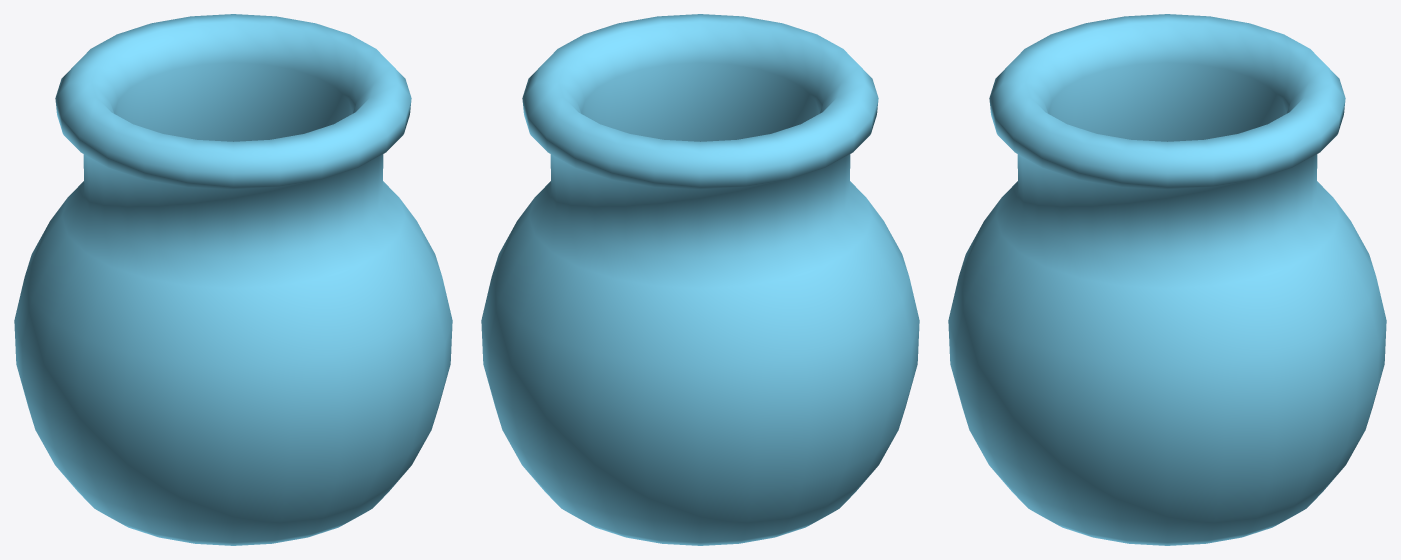
The model's file is Flask, Flat Bottom, Wide Mouth.fbx.
3 views of the same model, side by side, from view 1: azimuth 30°, elevation 25°; view 2: azimuth 150°, elevation 25°; view 3: azimuth 270°, elevation 25° (orthographic).
Parts seen in each view (by area): view 1: Flask, Flat Bottom, Wide Mouth_LOD0; view 2: Flask, Flat Bottom, Wide Mouth_LOD0; view 3: Flask, Flat Bottom, Wide Mouth_LOD0.
Boxes of the visible parts, x1,y1,x2,y2 form: Flask, Flat Bottom, Wide Mouth_LOD0: [14, 14, 452, 545]; Flask, Flat Bottom, Wide Mouth_LOD0: [481, 14, 919, 545]; Flask, Flat Bottom, Wide Mouth_LOD0: [948, 14, 1386, 545].
Size of what is drawn, in the model's own units: 0.4698 by 0.4761 by 0.4698.
